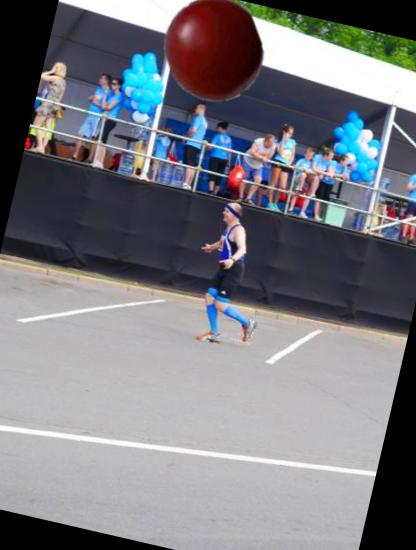Cherry: (150, 0, 277, 113)
